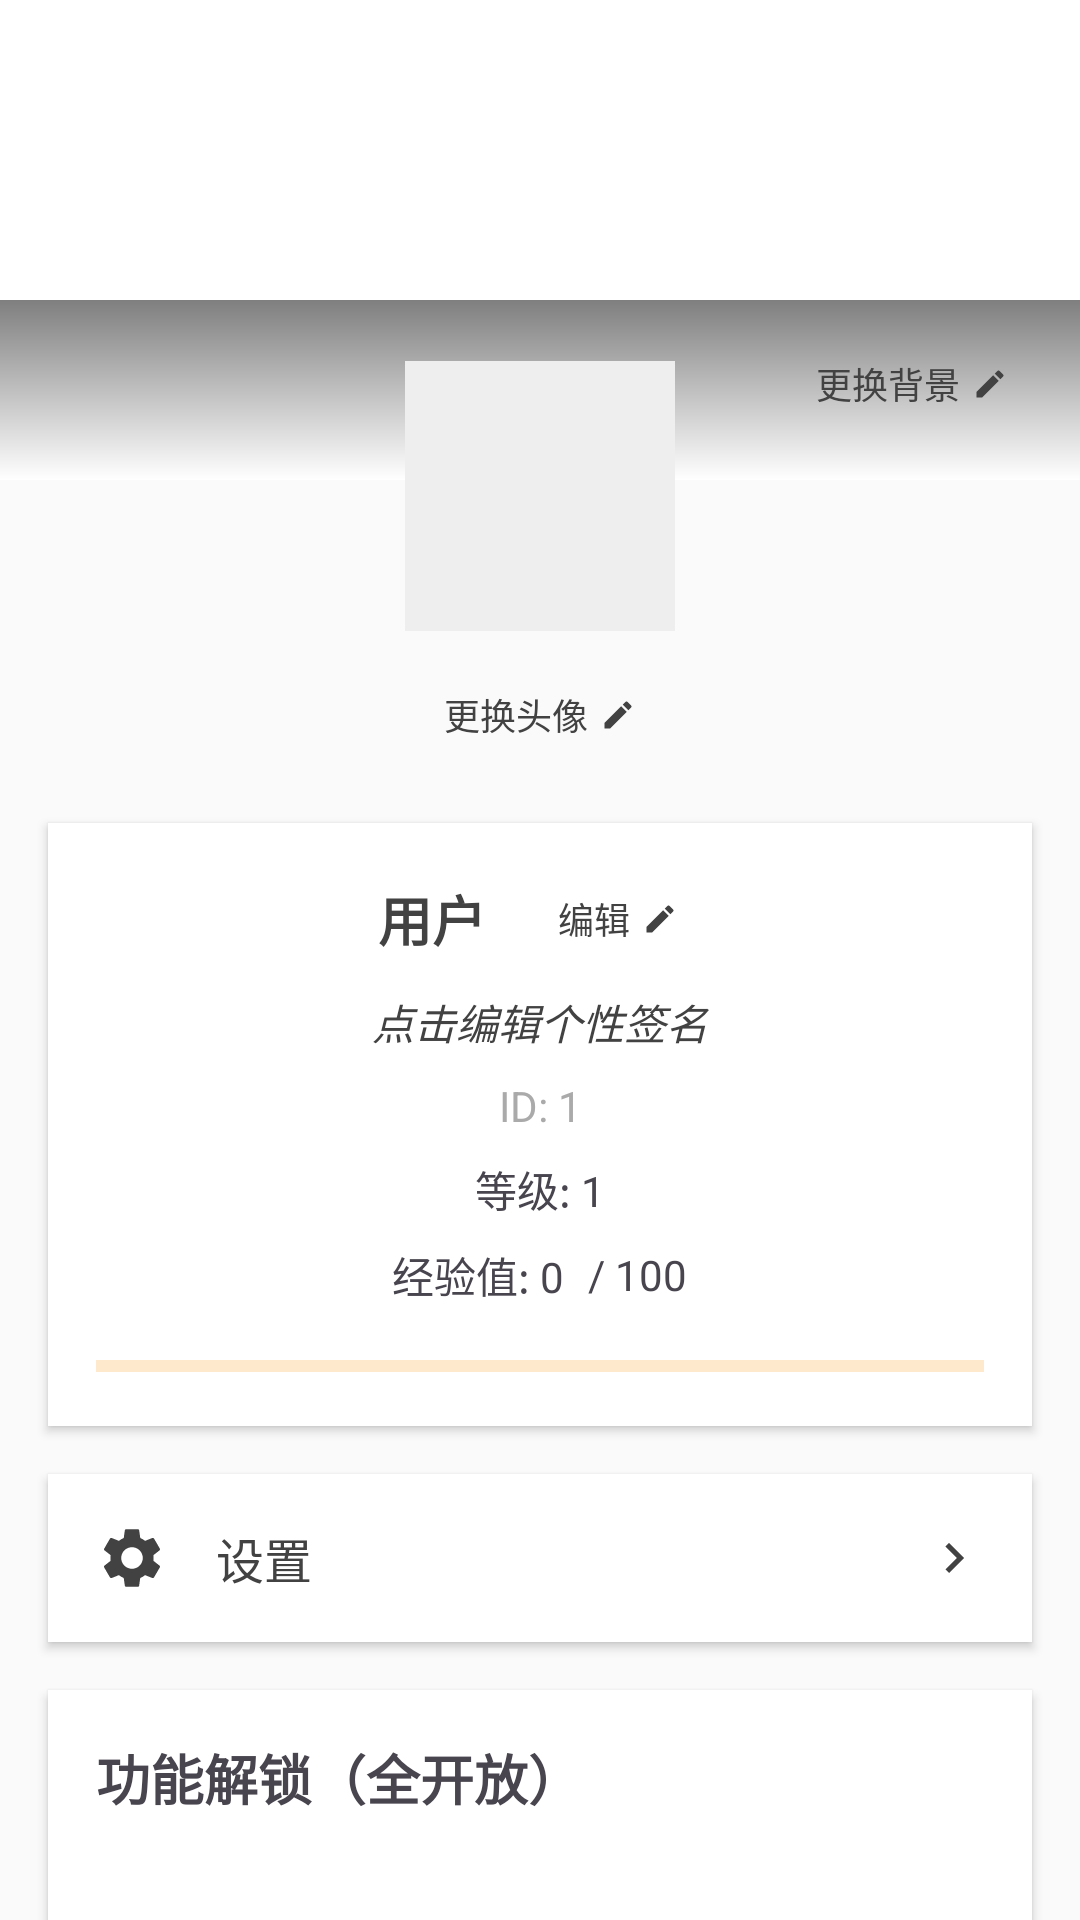

Where to tap for icons on this 1080*1920 app screen, as [x,y]:
arrow right: [954,1558]
settings: [132,1558]
